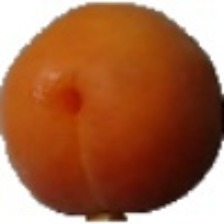apricot: (26, 23, 221, 221)
